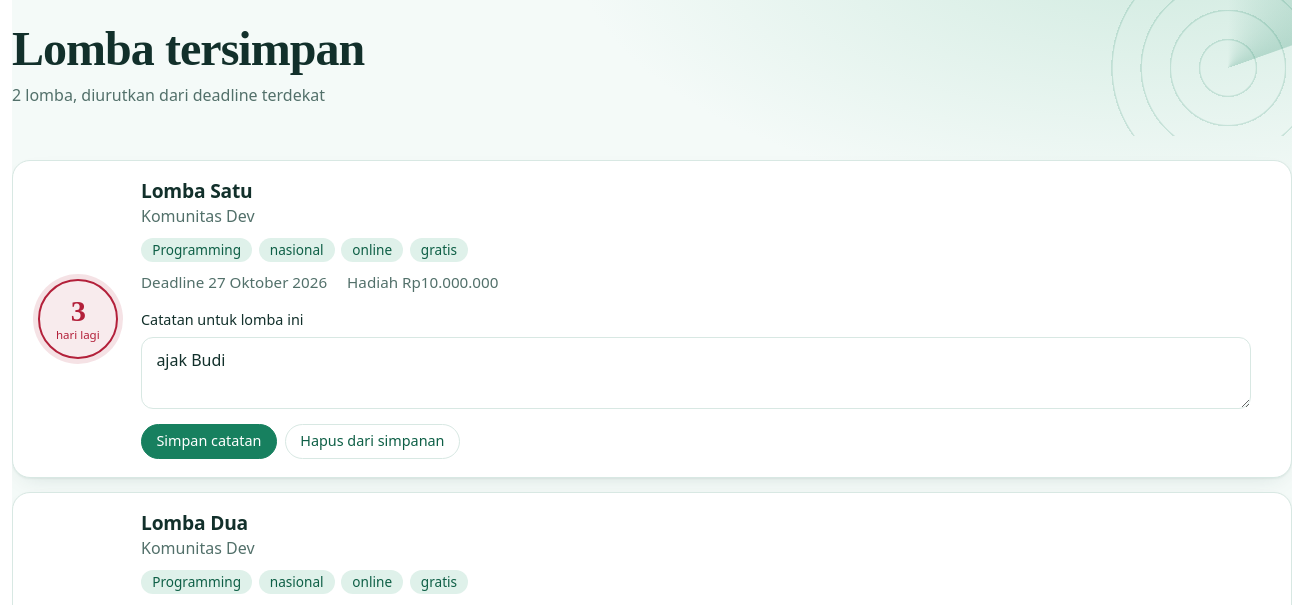
Test: Tersimpan › gagal menghapus menampilkan error dan lomba tetap ada
Expected: the link "Lomba Satu" is shown, x1=141 y1=177 x2=252 y2=204
Click the button "Hapus dari simpanan" below "27 Oktober 2026".
click(372, 441)  # box x1=285 y1=424 x2=460 y2=459
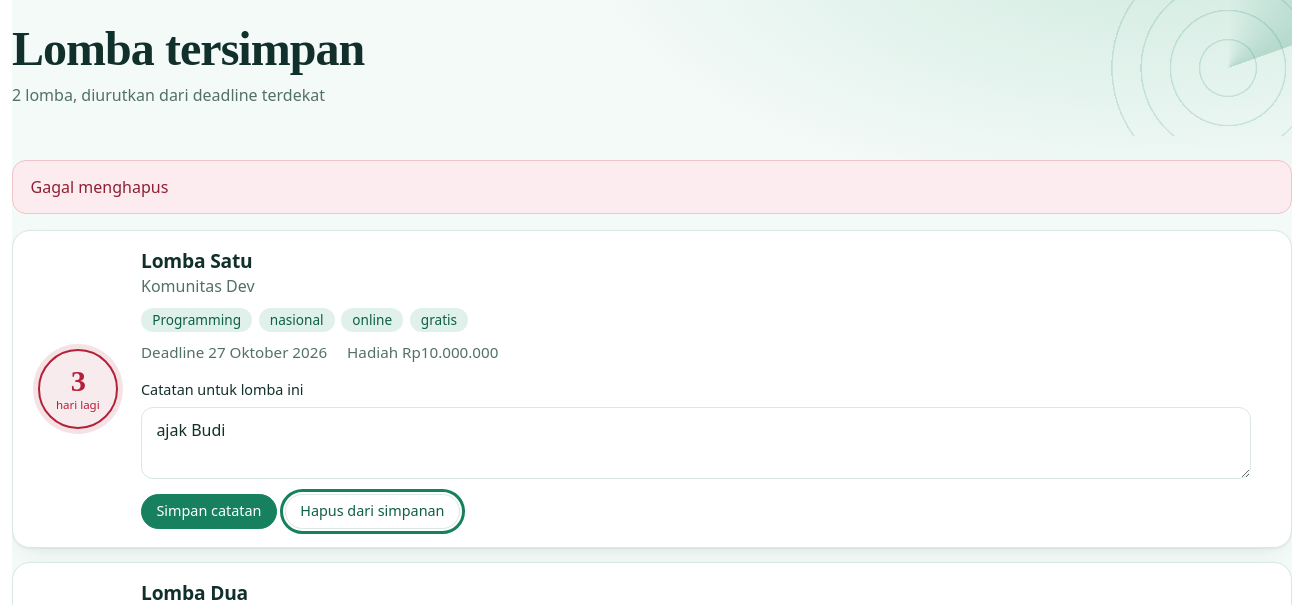
Expected: the link "Lomba Satu" is shown, x1=141 y1=247 x2=252 y2=274
Expected: the message reads "Gagal menghapus", x1=31 y1=176 x2=168 y2=198
